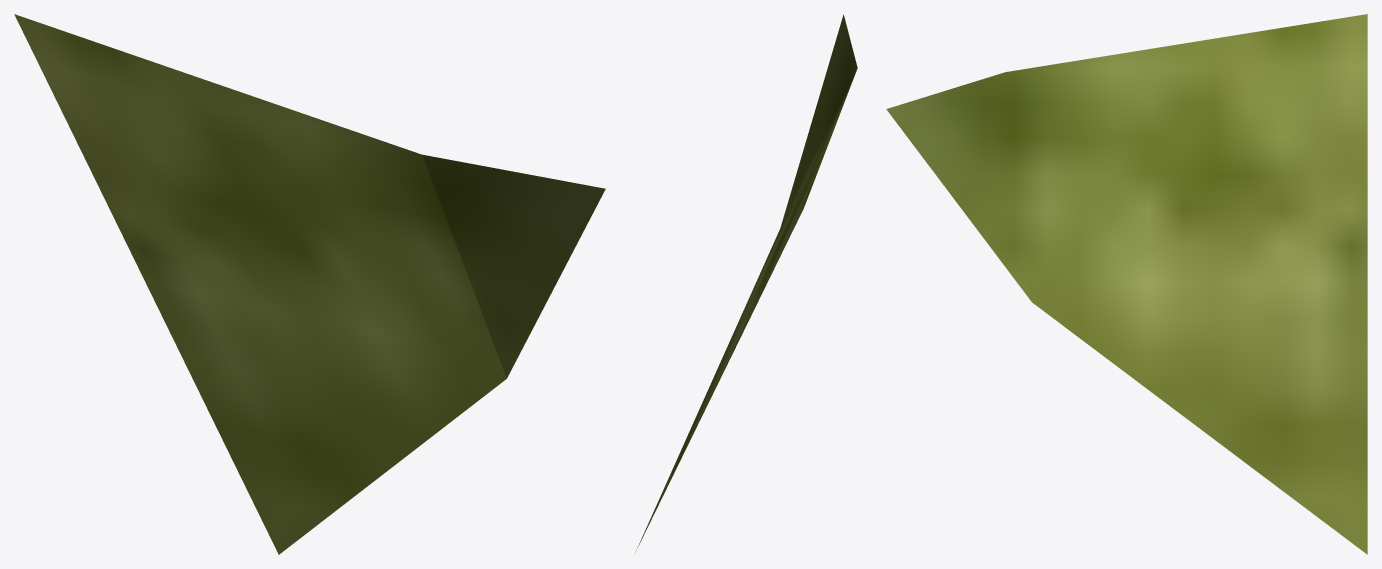
The picture shows the model from 3 angles, left to right: view 1: azimuth 30°, elevation 25°; view 2: azimuth 150°, elevation 25°; view 3: azimuth 270°, elevation 25°; orthographic projection. The views are drawn at different scales.
Bounding box in the file's own units: 0.1424 × 0.3112 × 0.3046.
Materials: 1 (1 with a texture image).
